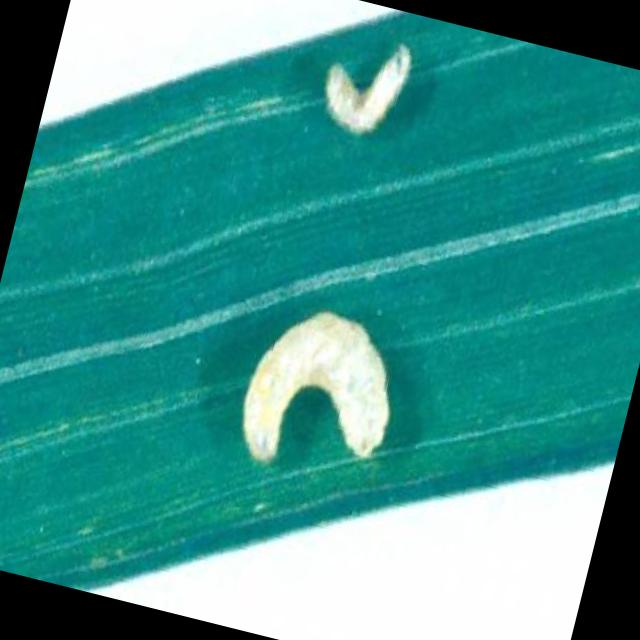whorl-maggot: (226, 286, 417, 500), (299, 22, 426, 156)
